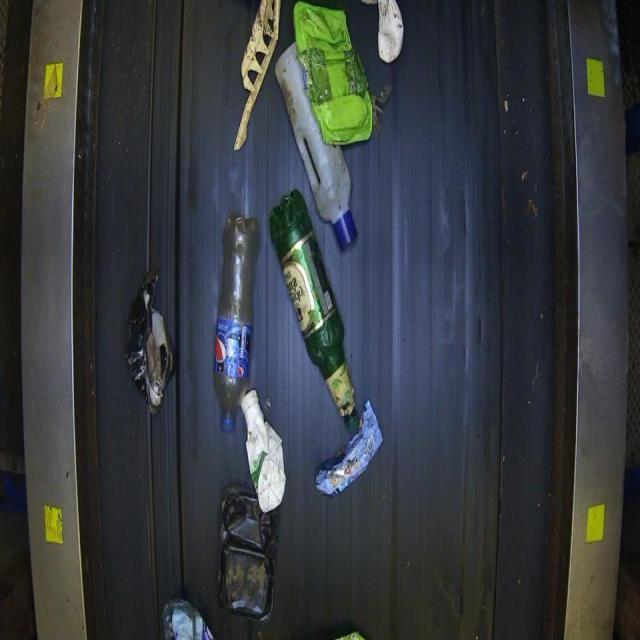bottles: (212, 214, 257, 432)
cardboard: (16, 0, 631, 639)
cups: (268, 187, 360, 431)
